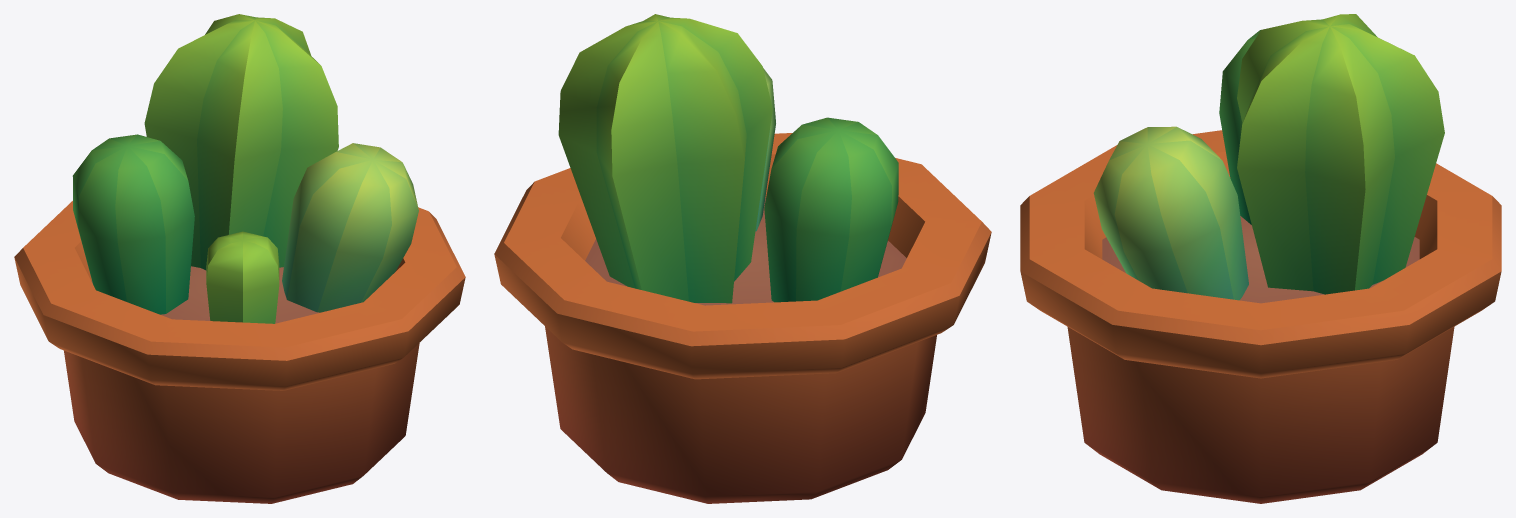
Rendered from plant.glb.
3 renders of one model, left to right at view 1: azimuth 30°, elevation 25°; view 2: azimuth 150°, elevation 25°; view 3: azimuth 270°, elevation 25°, orthographic. The views are drawn at different scales.
Parts seen in each view (by area): view 1: cactus_medium_A; view 2: cactus_medium_A; view 3: cactus_medium_A.
Boxes of the visible parts, left/top/right/bottom form: cactus_medium_A: left=14, top=14, right=465, bottom=503; cactus_medium_A: left=494, top=14, right=991, bottom=503; cactus_medium_A: left=1020, top=14, right=1501, bottom=503.
Bounding box in the file's own units: 0.8799 × 0.8272 × 0.8368.
Materials: 1 (1 with a texture image).
